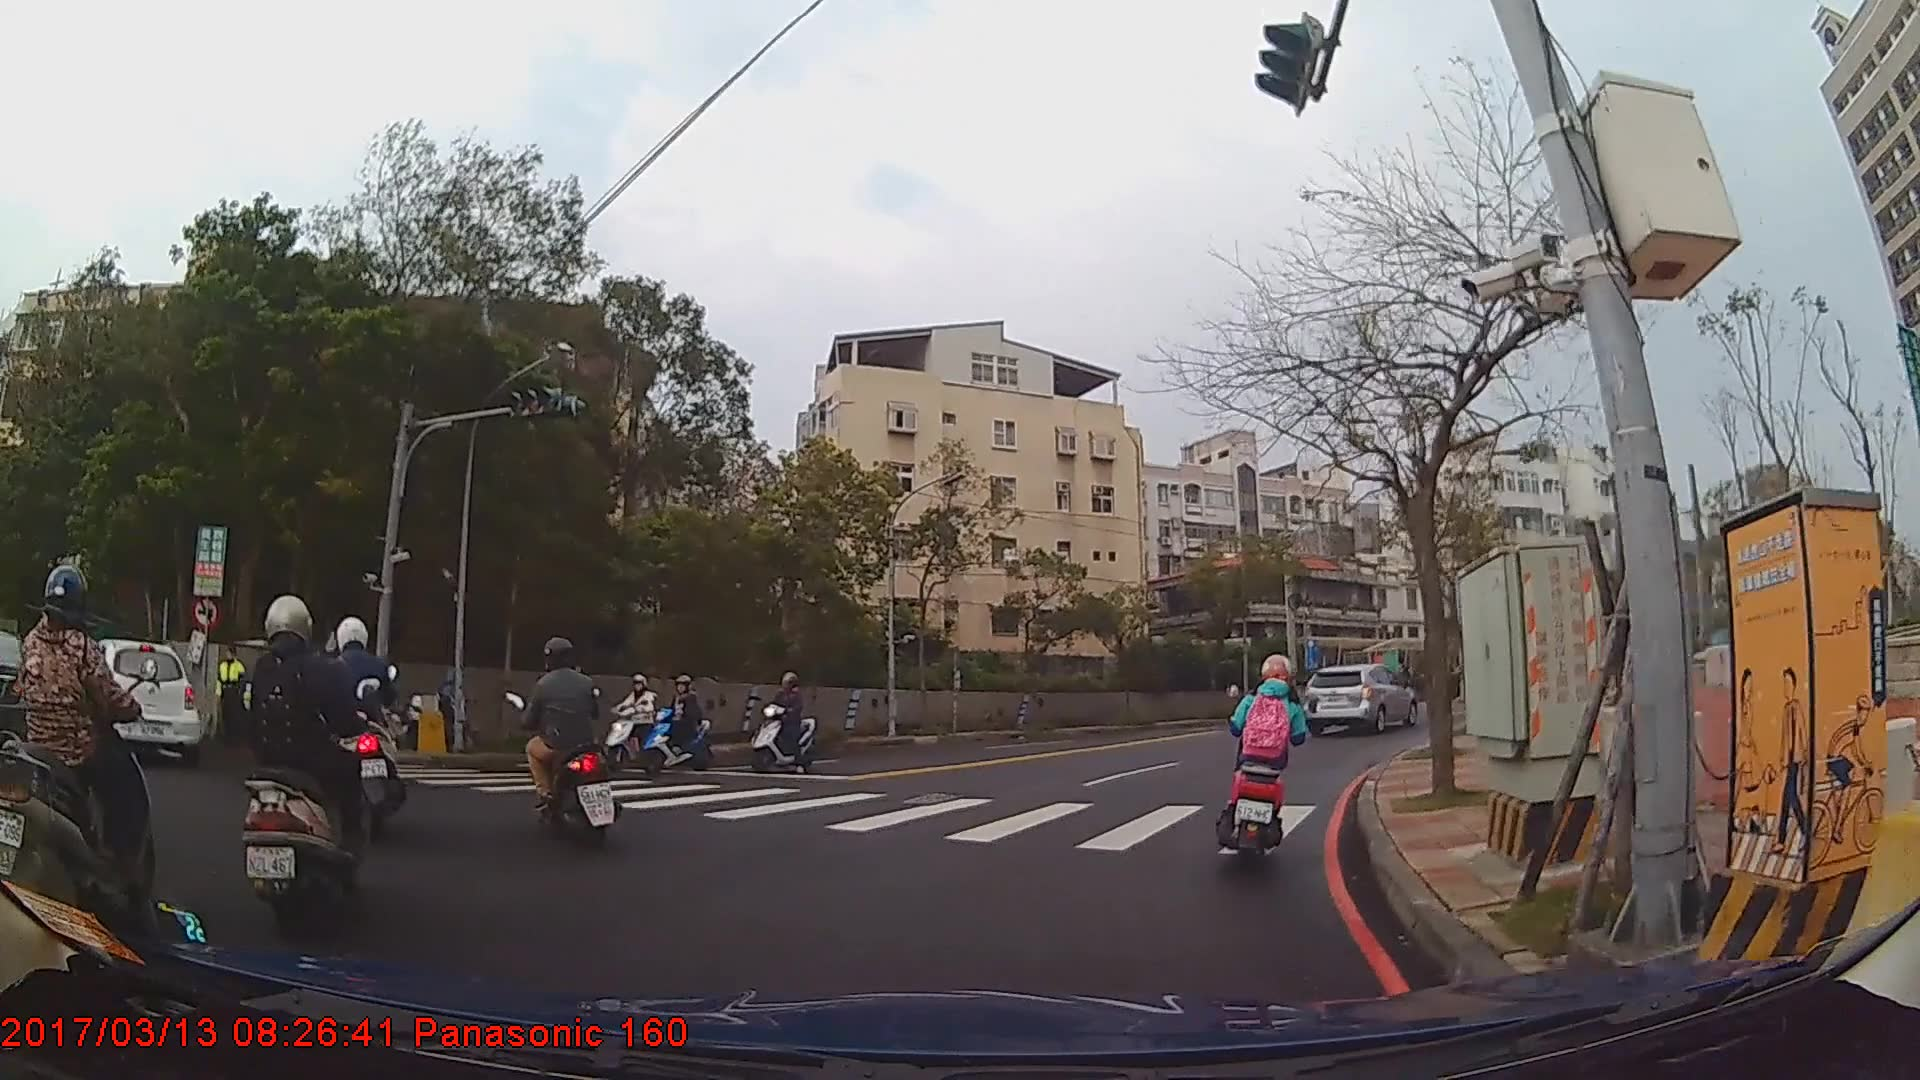pedestrian: (213, 643, 251, 752)
rider: (16, 561, 161, 950), (237, 595, 372, 922), (510, 637, 620, 855), (321, 618, 409, 847), (1224, 655, 1312, 859), (643, 674, 712, 773), (748, 672, 816, 772), (605, 675, 665, 767)
vehicle: (70, 639, 197, 761), (1300, 663, 1418, 737)
